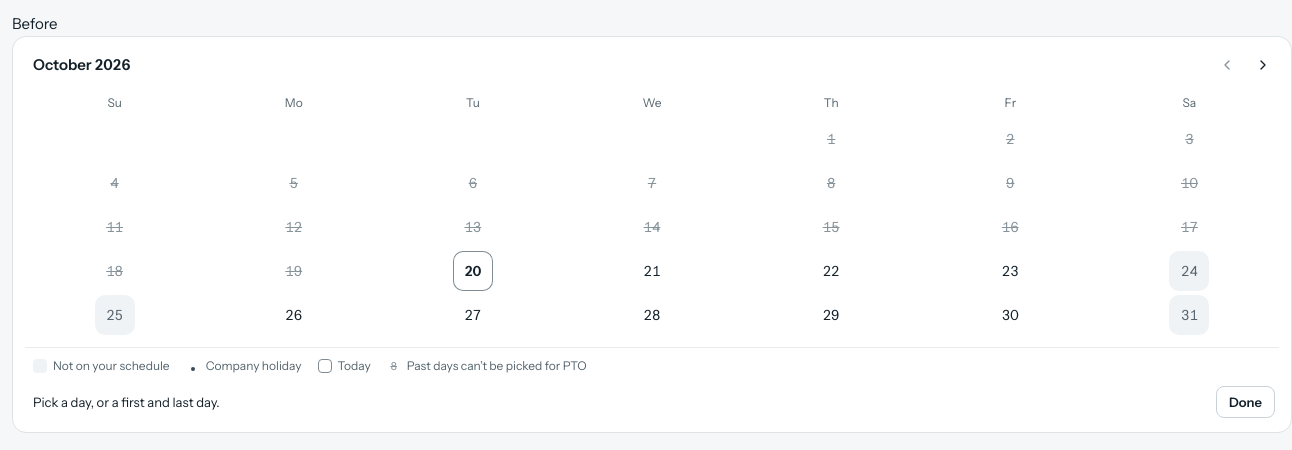
DatePicker day names › names a holiday
Click the button named "Next month".
click(1263, 65)  # box [1247,49,1279,81]
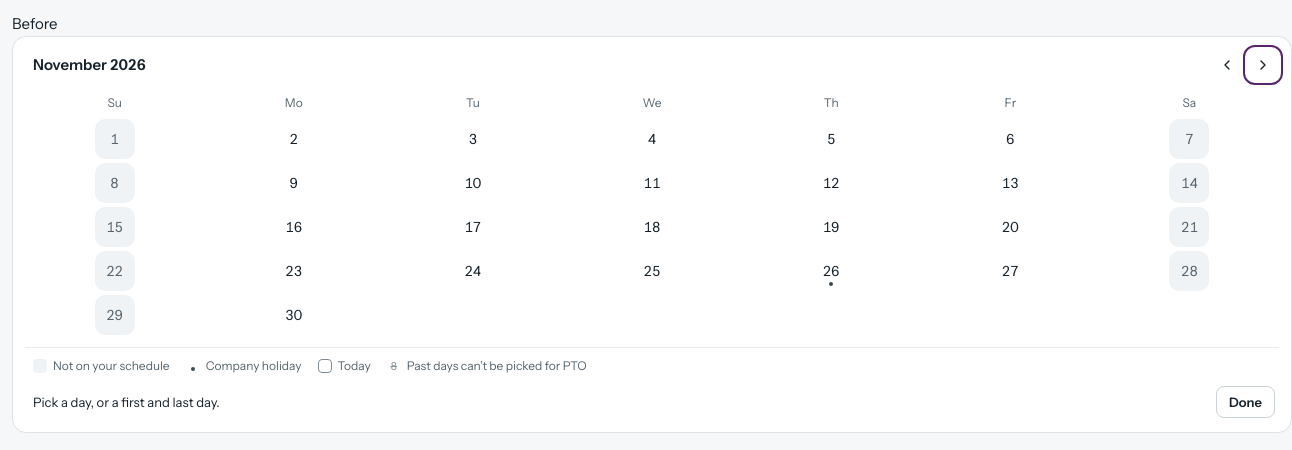
Expected: the button named "Thursday, November 26, Thanksgiving, company holiday" is shown, [811,251,851,291]
